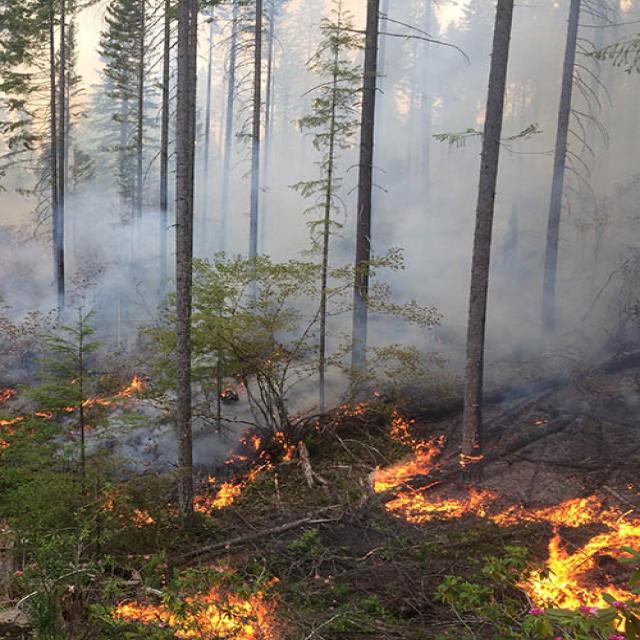Fire: (375, 444, 593, 530), (530, 522, 640, 617), (127, 593, 296, 640), (204, 436, 301, 513)
